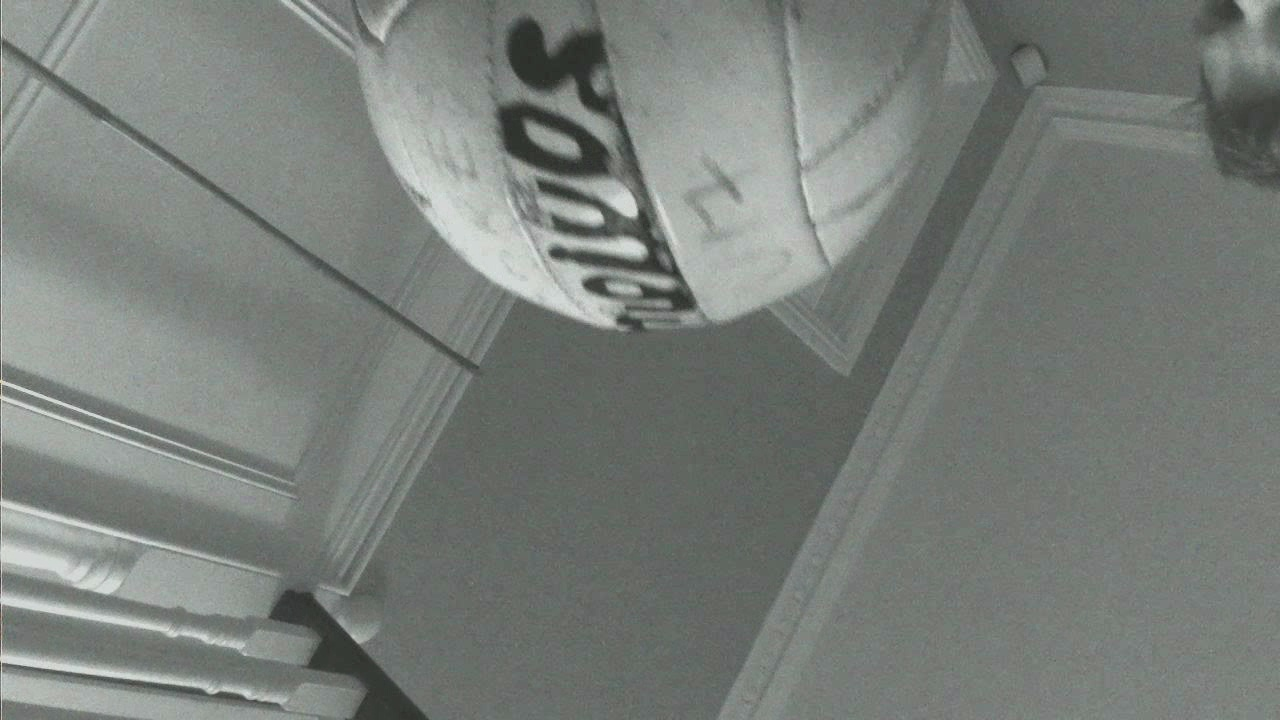Football-Spotter: (351, 0, 948, 330)
